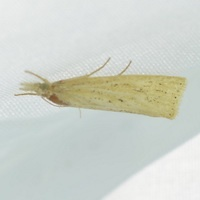insect: (15, 57, 186, 118)
